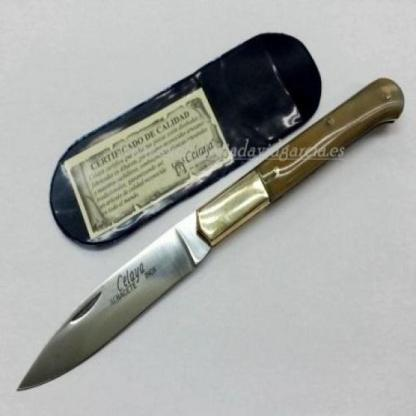Knife: (17, 78, 404, 391)
